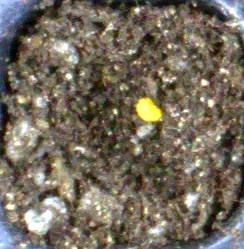pepper seed: (53, 37, 216, 159)
